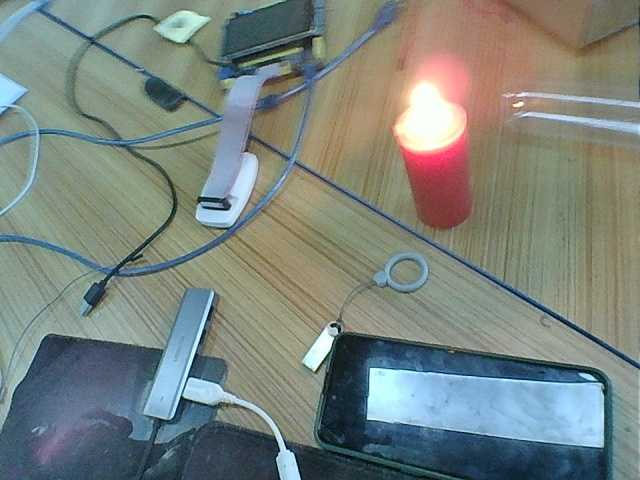candle: (406, 146, 473, 230)
fire: (392, 84, 463, 143)
